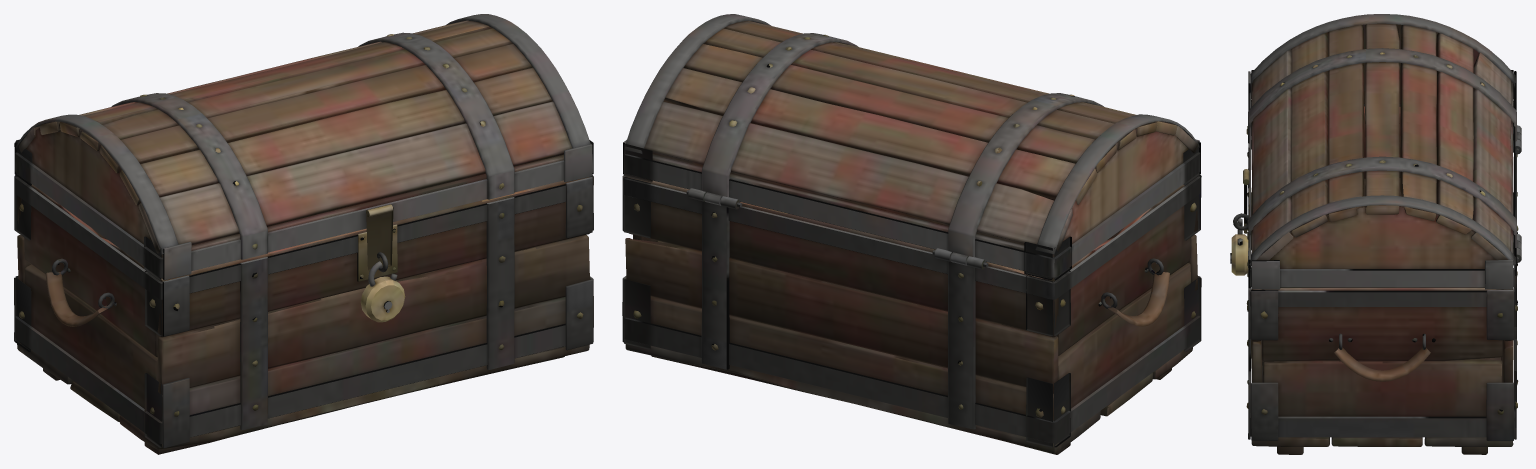
File: chest.glb
3 views of the same model, side by side, from view 1: azimuth 30°, elevation 25°; view 2: azimuth 150°, elevation 25°; view 3: azimuth 270°, elevation 25° (orthographic). The views are drawn at different scales.
Visible parts, largest first — view 1: chest, Lid, Lock; view 2: chest, Lid; view 3: Lid, chest, Lock.
Part boxes in pixels (x1,y1,x2,y2): chest: [14, 175, 593, 454]; Lid: [14, 14, 593, 280]; Lock: [360, 261, 405, 322]; chest: [622, 175, 1201, 454]; Lid: [623, 14, 1200, 279]; Lid: [1243, 14, 1521, 289]; chest: [1233, 100, 1521, 454]; Lock: [1230, 218, 1248, 275].
Bounding box in the file's own units: 0.9028 × 0.5117 × 0.5216.
1 material, 1 textured.
